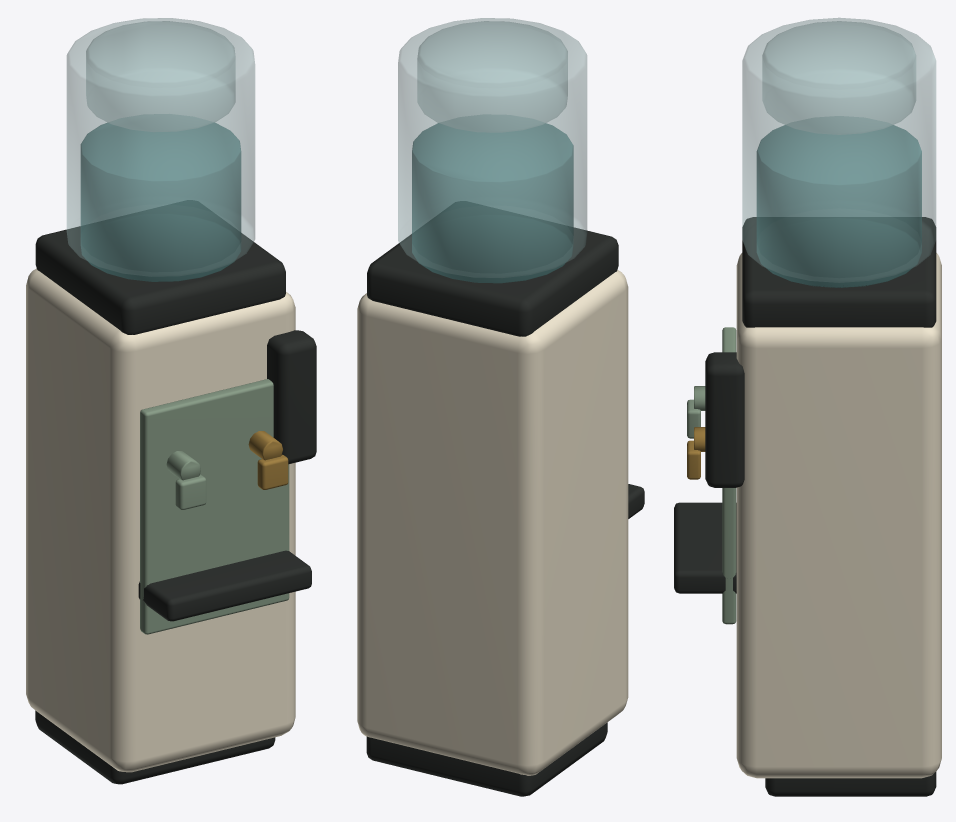
The model's file is pine_hills_water_cooler_v1.glb.
3 views of the same model, side by side, from view 1: azimuth 30°, elevation 25°; view 2: azimuth 150°, elevation 25°; view 3: azimuth 270°, elevation 25° (orthographic). The views are drawn at different scales.
Parts seen in each view (by area): view 1: MESH_WaterCoolerBody, MESH_WaterCoolerJug, MESH_WaterCoolerWater, MESH_WaterCoolerFrontInset, MESH_WaterCoolerJugShoulder, MESH_WaterCoolerTopCollar, MESH_WaterCoolerDripTray, MESH_WaterCoolerCupDispenser, MESH_WaterCoolerBasePlinth, MESH_WaterCoolerPaddleRoom, MESH_WaterCoolerPaddleCold, MESH_WaterCoolerTapCold (+1 smaller); view 2: MESH_WaterCoolerBody, MESH_WaterCoolerJug, MESH_WaterCoolerWater, MESH_WaterCoolerJugShoulder, MESH_WaterCoolerTopCollar, MESH_WaterCoolerBasePlinth; view 3: MESH_WaterCoolerBody, MESH_WaterCoolerJug, MESH_WaterCoolerWater, MESH_WaterCoolerJugShoulder, MESH_WaterCoolerTopCollar, MESH_WaterCoolerCupDispenser, MESH_WaterCoolerDripTray, MESH_WaterCoolerBasePlinth, MESH_WaterCoolerFrontInset.
Boxes of the visible parts, <box> form: MESH_WaterCoolerBody: <box>26,268,295,772</box>; MESH_WaterCoolerJug: <box>66,18,255,276</box>; MESH_WaterCoolerWater: <box>80,114,241,281</box>; MESH_WaterCoolerFrontInset: <box>140,379,289,634</box>; MESH_WaterCoolerJugShoulder: <box>86,21,235,131</box>; MESH_WaterCoolerTopCollar: <box>35,226,285,334</box>; MESH_WaterCoolerDripTray: <box>138,550,311,621</box>; MESH_WaterCoolerCupDispenser: <box>267,330,316,464</box>; MESH_WaterCoolerBasePlinth: <box>35,710,275,784</box>; MESH_WaterCoolerPaddleRoom: <box>257,454,288,489</box>; MESH_WaterCoolerPaddleCold: <box>175,474,206,509</box>; MESH_WaterCoolerTapCold: <box>166,451,200,480</box>; MESH_WaterCoolerBody: <box>357,270,628,775</box>; MESH_WaterCoolerJug: <box>398,18,587,278</box>; MESH_WaterCoolerWater: <box>412,115,573,283</box>; MESH_WaterCoolerJugShoulder: <box>417,21,567,132</box>; MESH_WaterCoolerTopCollar: <box>367,227,618,336</box>; MESH_WaterCoolerBasePlinth: <box>366,722,607,796</box>; MESH_WaterCoolerBody: <box>736,253,941,778</box>; MESH_WaterCoolerJug: <box>742,17,936,282</box>; MESH_WaterCoolerWater: <box>756,116,921,287</box>; MESH_WaterCoolerJugShoulder: <box>762,21,916,134</box>; MESH_WaterCoolerTopCollar: <box>742,217,936,327</box>; MESH_WaterCoolerCupDispenser: <box>705,352,744,487</box>; MESH_WaterCoolerDripTray: <box>674,502,736,593</box>; MESH_WaterCoolerBasePlinth: <box>765,772,936,796</box>; MESH_WaterCoolerFrontInset: <box>722,327,736,624</box>.
Size of the model in its own units: 0.4 by 1.37 by 0.47.
